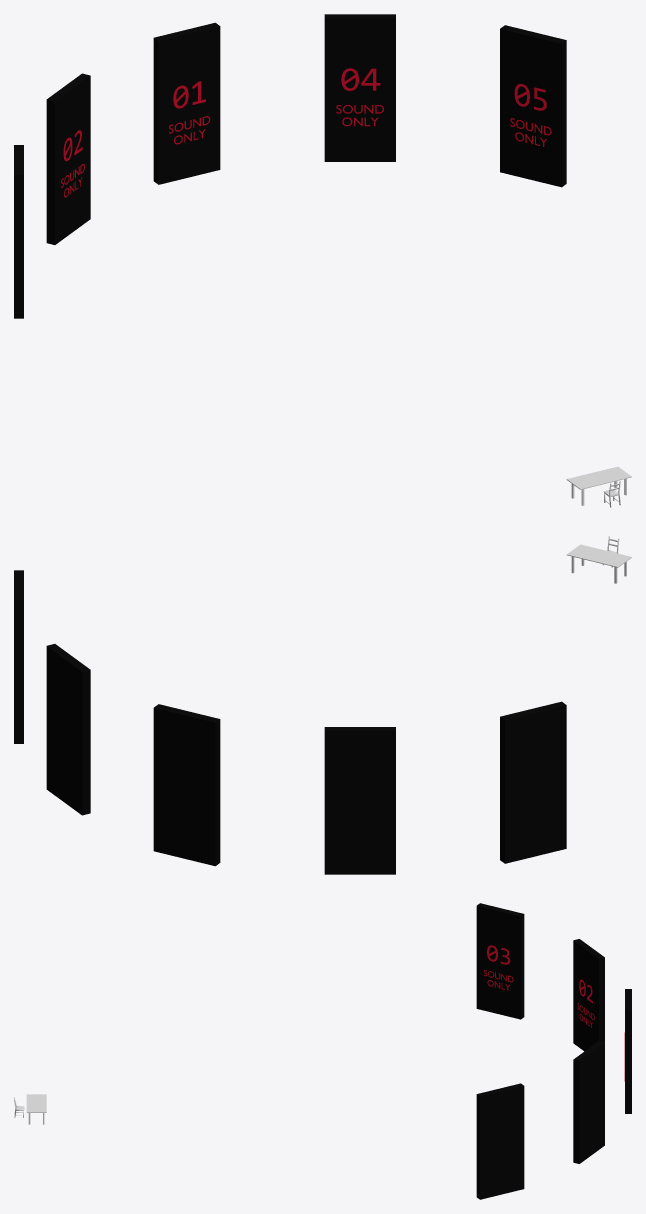
The picture shows the model from 3 angles, top to bottom: view 1: azimuth 30°, elevation 25°; view 2: azimuth 150°, elevation 25°; view 3: azimuth 270°, elevation 25°; orthographic projection. The views are drawn at different scales.
Parts seen in each view (by area): view 1: 立方体.008, 立方体.007, 立方体.009, 立方体.006, 立方体.005, 立方体; view 2: 立方体.006, 立方体.007, 立方体.005, 立方体.008, 立方体.009, 立方体; view 3: 立方体.009, 立方体.005, 立方体.008, 立方体.006, 立方体.007, 立方体.
Boxes of the visible parts, x1,y1,x2,y2 form: 立方体.008: [324, 14, 395, 161]; 立方体.007: [153, 22, 220, 184]; 立方体.009: [500, 25, 566, 187]; 立方体.006: [46, 73, 90, 244]; 立方体.005: [14, 145, 23, 318]; 立方体: [566, 466, 631, 505]; 立方体.006: [324, 727, 395, 874]; 立方体.007: [153, 704, 220, 866]; 立方体.005: [500, 701, 566, 863]; 立方体.008: [46, 644, 90, 815]; 立方体.009: [14, 570, 23, 743]; 立方体: [566, 544, 631, 583]; 立方体.009: [476, 1083, 524, 1199]; 立方体.005: [476, 903, 524, 1019]; 立方体.008: [573, 1041, 604, 1163]; 立方体.006: [573, 939, 604, 1051]; 立方体.007: [625, 989, 631, 1113]; 立方体: [26, 1094, 46, 1124].
Size of what is drawn, in the model's own units: 32.23 by 9.07 by 43.48.
